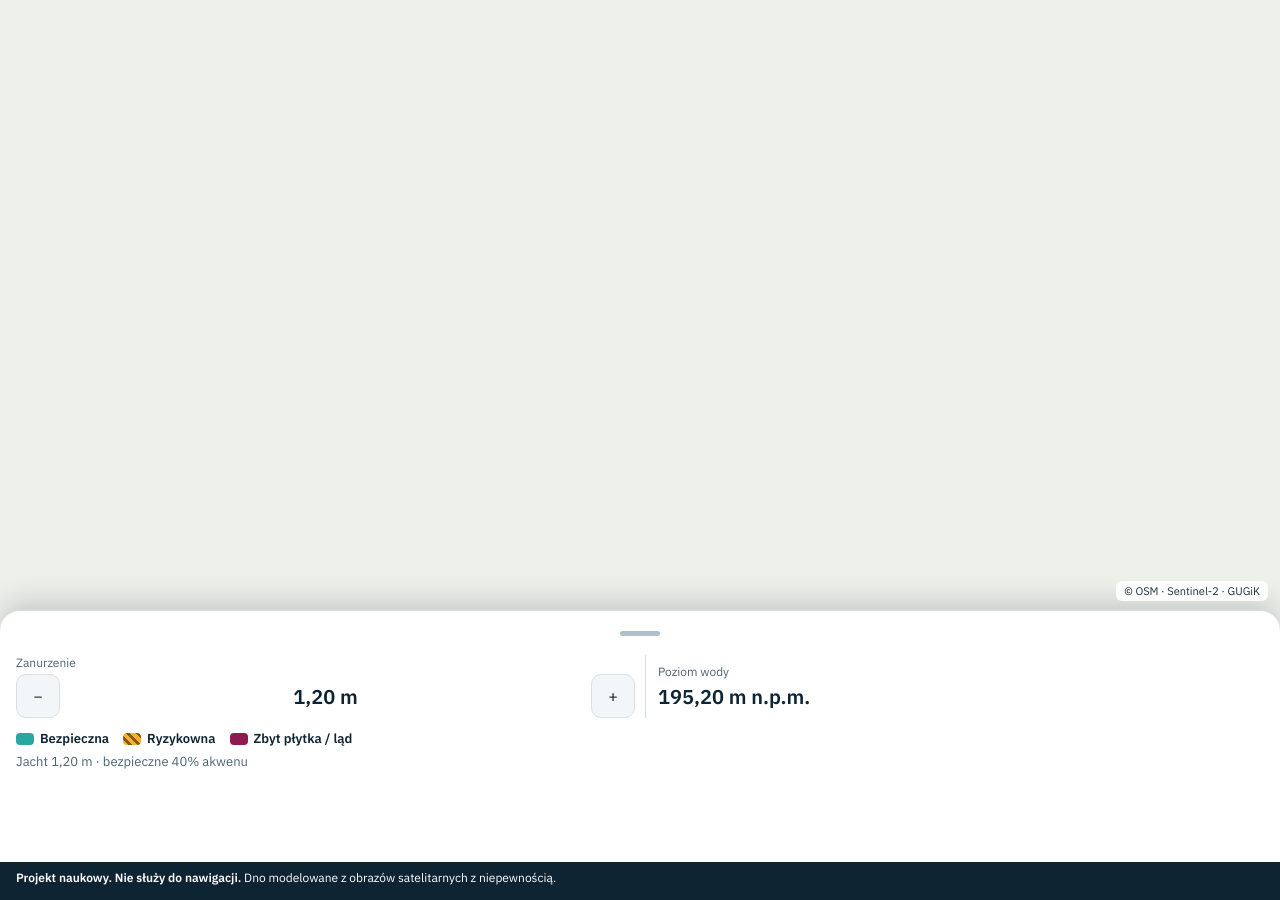
Test: BottomSheet › tapping the level shortcut expands the sheet; „Pokaż mapę” collapses it
Click the button "Poziom wody 195,20 m n.p.m.": (694, 671) x1=645 y1=655 x2=1264 y2=718
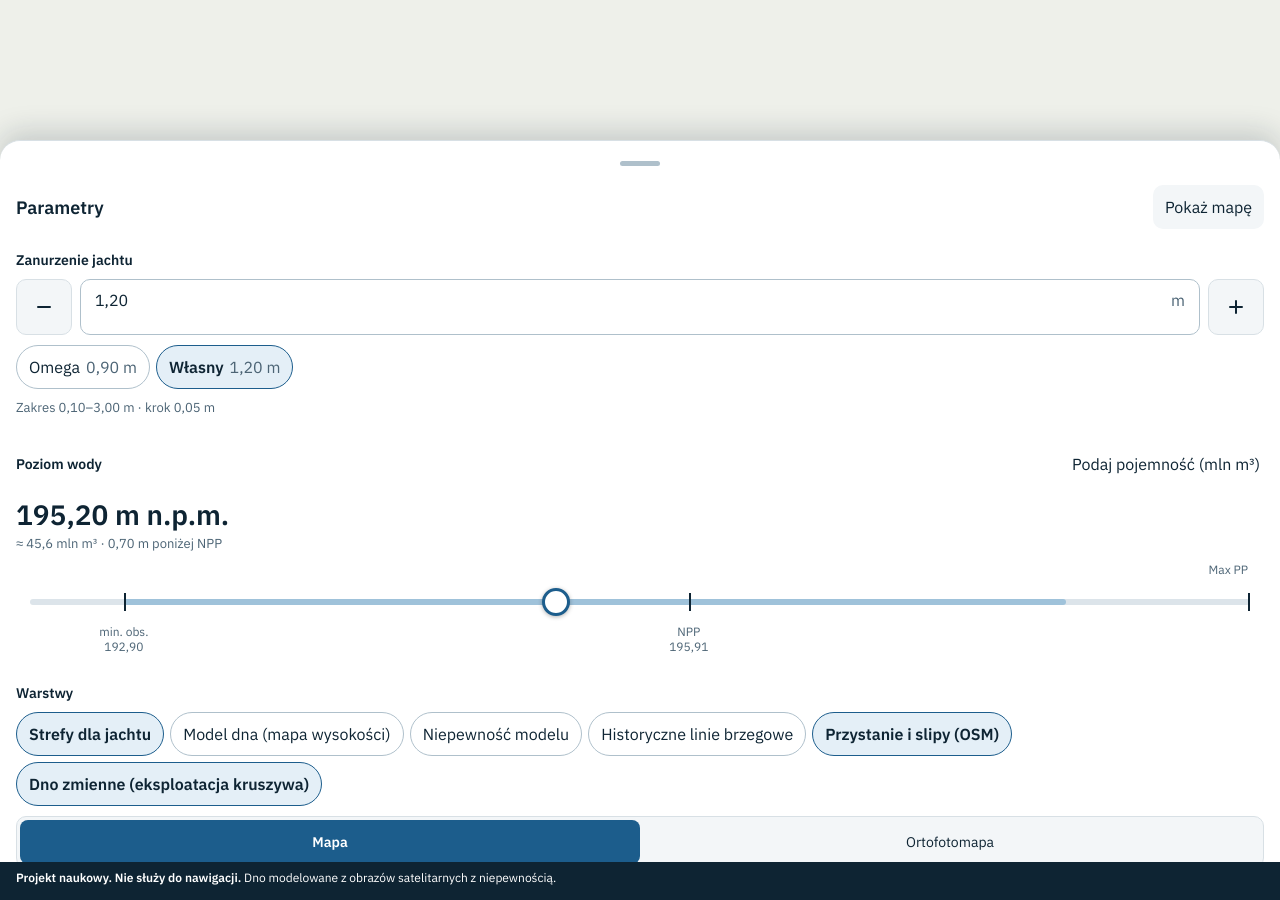
Check: the button named "Zwiń panel" is expanded, box x1=0 y1=141 x2=1279 y2=185
Check: the slider is shown, box x1=16 y1=580 x2=1264 y2=624
Check: the element named "Warstwy" is shown, box x1=16 y1=712 x2=1012 y2=806
Click the button "Pokaż mapę": (1208, 207) x1=1153 y1=185 x2=1264 y2=229
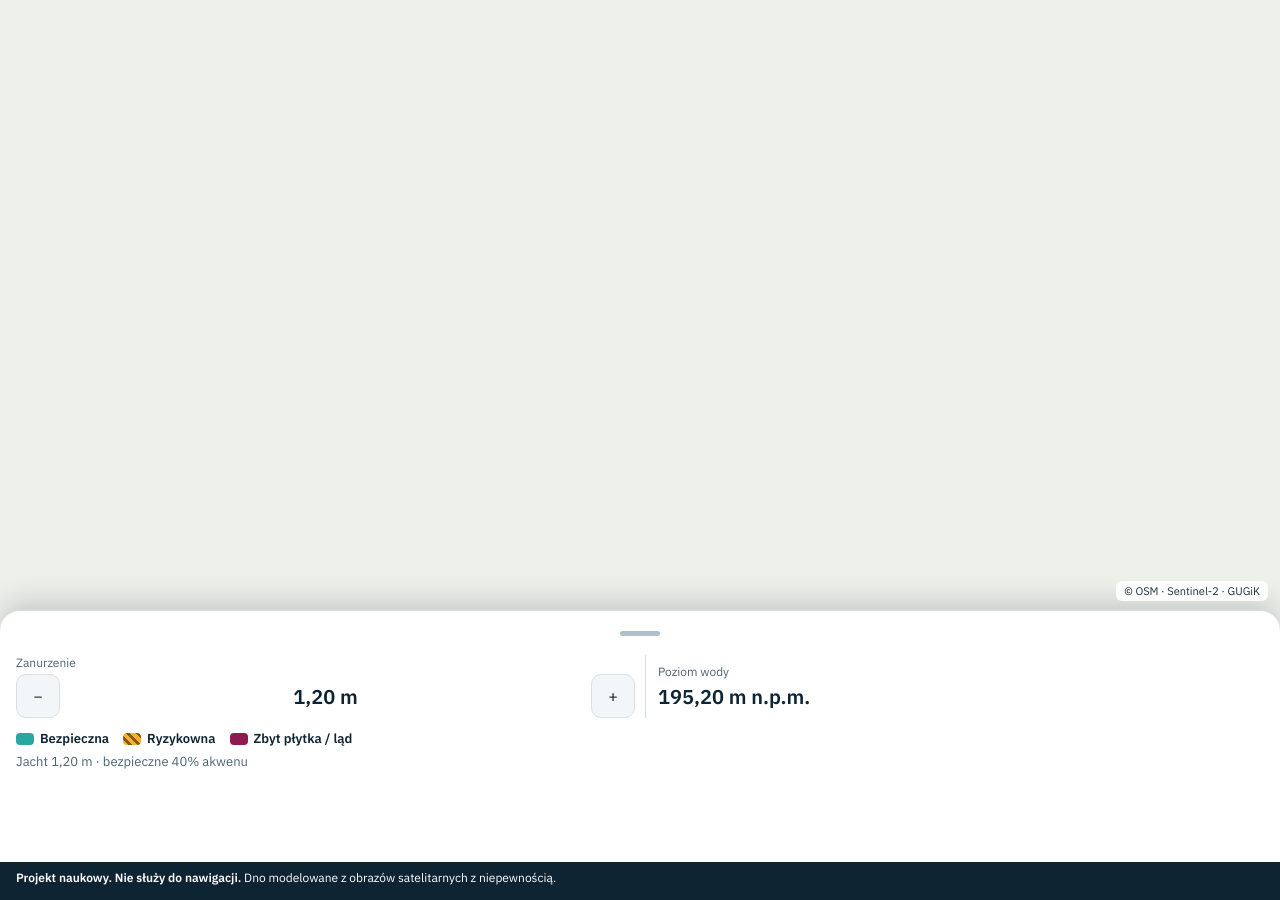
Check: the button named "Rozwiń panel parametrów" is collapsed, box x1=0 y1=611 x2=1279 y2=655
Check: the slider is gone
